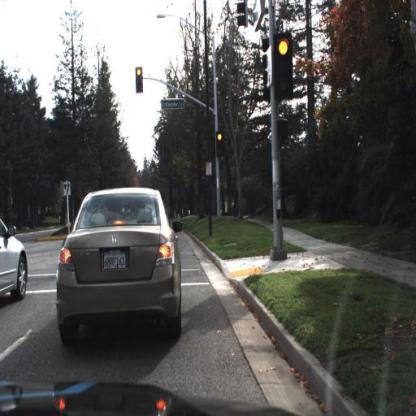car: (55, 184, 185, 348), (1, 203, 31, 304)
trafficLight-Red: (272, 29, 296, 104), (216, 129, 226, 159), (136, 66, 146, 94)
